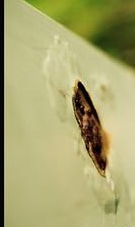Corrosion: (70, 79, 112, 179)
